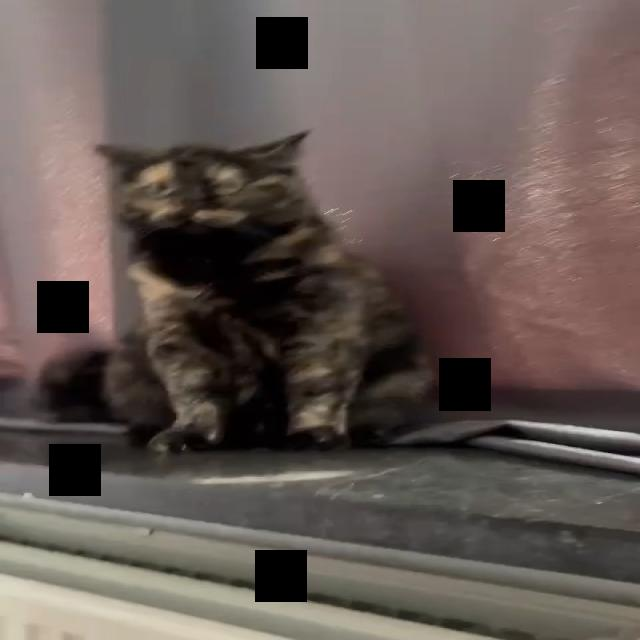authorized: (92, 128, 436, 454)
